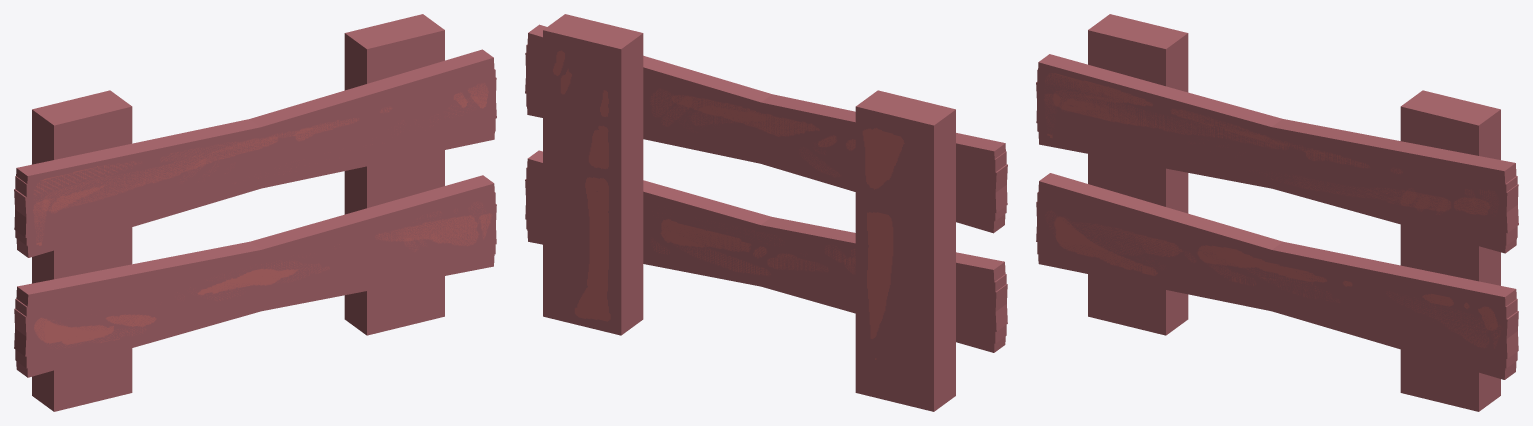
The model's file is Fence new.fbx.
3 renders of one model, left to right at view 1: azimuth 30°, elevation 25°; view 2: azimuth 150°, elevation 25°; view 3: azimuth 330°, elevation 25°, orthographic.
Visible parts, largest first — view 1: Fence 0, Fence 1, Fence 2; view 2: Fence 0, Fence 1, Fence 2; view 3: Fence 0, Fence 2, Fence 1.
Boxes of the visible parts, box(x1,y1,x2,y2) form: Fence 0: box(14, 14, 496, 411); Fence 1: box(14, 69, 496, 356); Fence 2: box(14, 77, 496, 377); Fence 0: box(525, 14, 1007, 411); Fence 1: box(525, 44, 1007, 331); Fence 2: box(525, 53, 1007, 352); Fence 0: box(1036, 14, 1518, 411); Fence 2: box(1036, 54, 1518, 358); Fence 1: box(1036, 69, 1518, 379).
Size of the model in its own units: 226 by 131 by 27.94.
